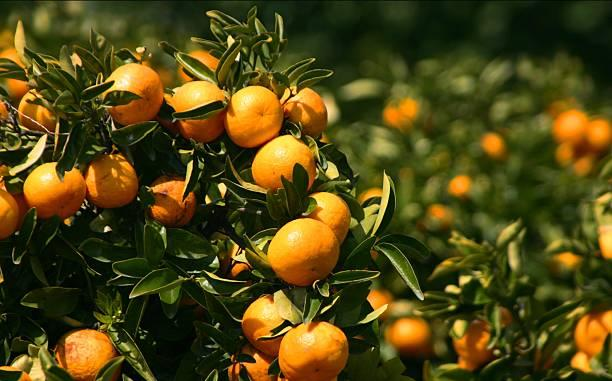orange: (20, 157, 112, 236), (238, 123, 321, 195), (259, 214, 337, 282), (278, 316, 351, 381), (84, 147, 150, 212), (19, 73, 87, 135), (52, 334, 136, 381), (548, 102, 612, 158), (228, 76, 282, 141), (109, 60, 159, 124), (175, 80, 222, 141), (242, 299, 298, 348), (388, 308, 440, 350), (151, 173, 198, 219), (308, 195, 362, 232)
